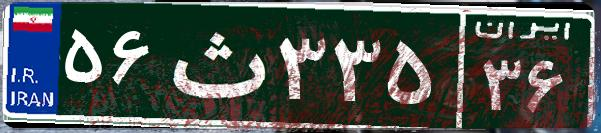3: (273, 28, 330, 110), (330, 28, 385, 110), (475, 38, 525, 113)
5: (385, 28, 445, 110), (57, 26, 110, 107)
6: (110, 28, 158, 105), (525, 38, 570, 115)
ث: (158, 15, 273, 115)
